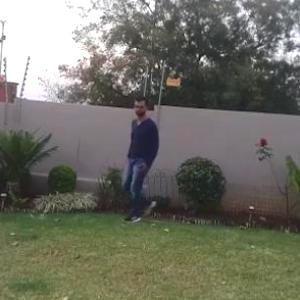follow: (122, 93, 170, 228)
